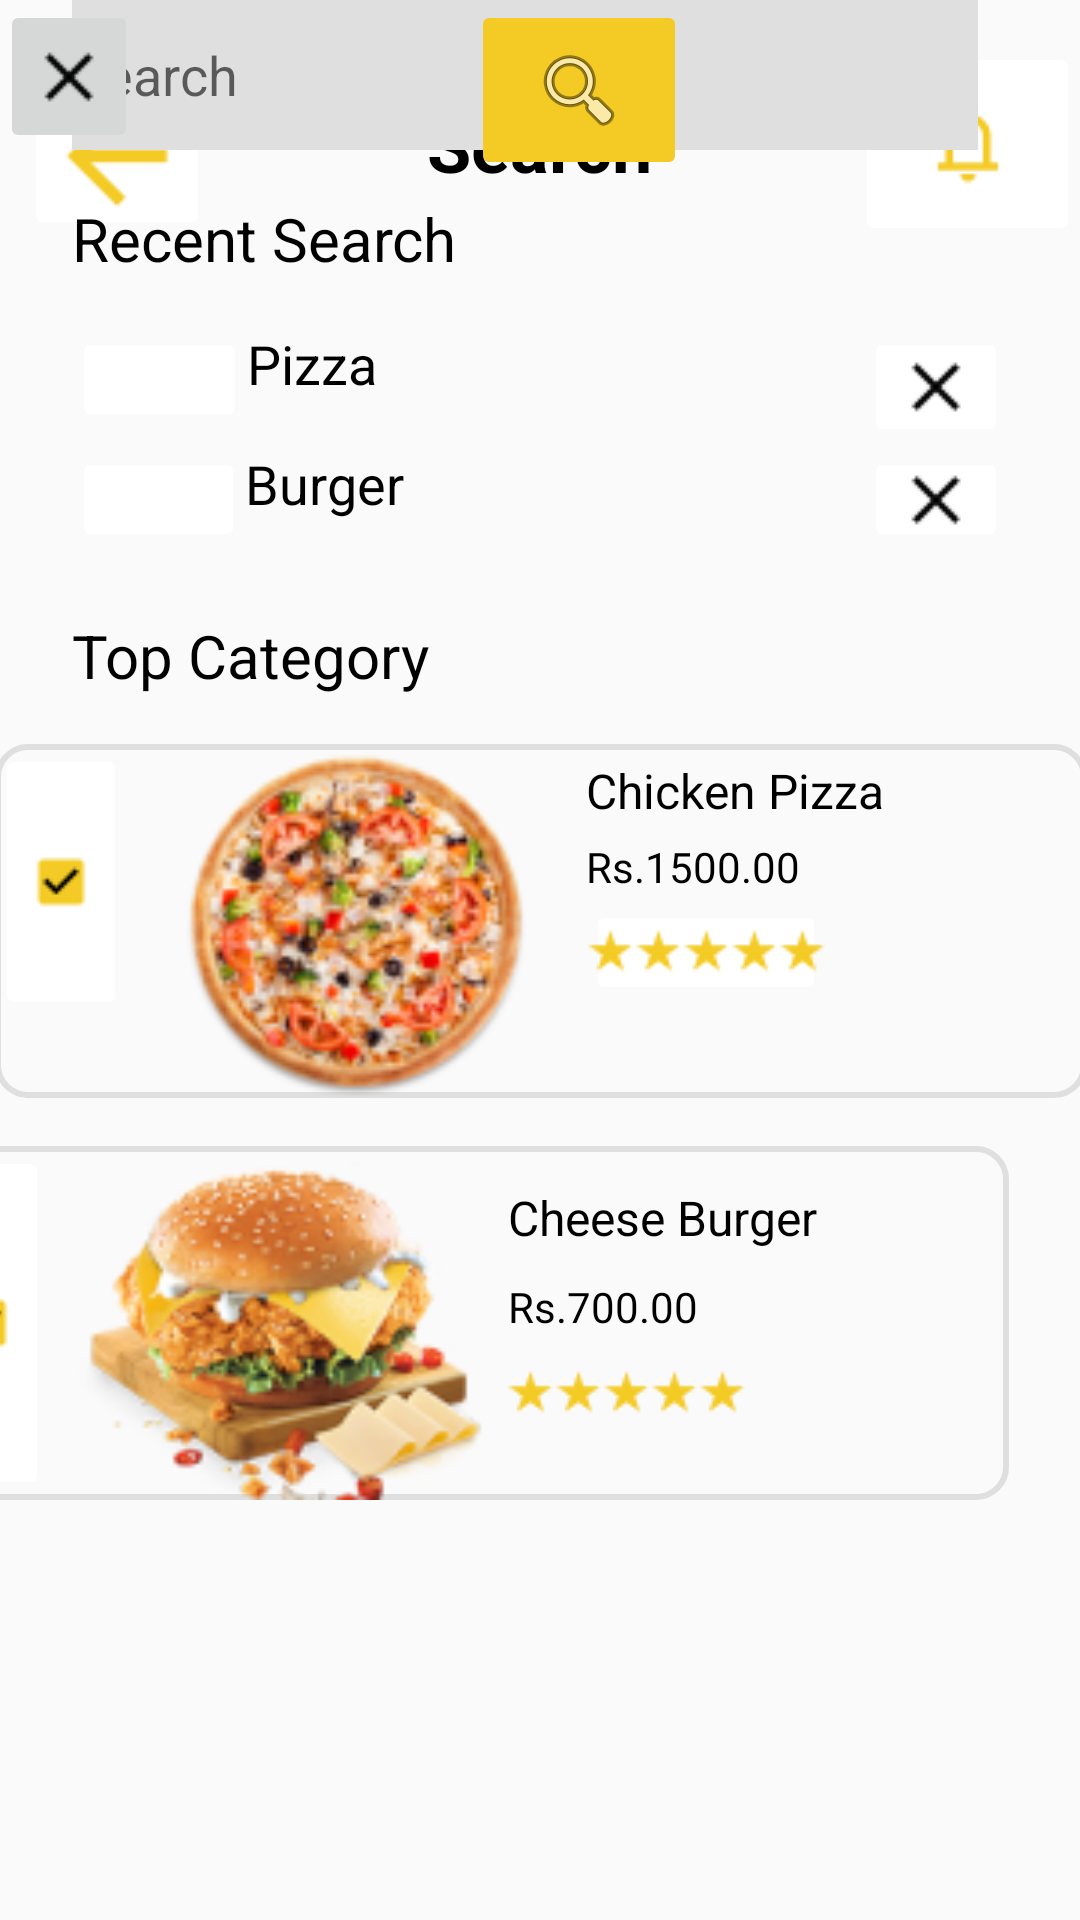

Point at icon controls on the screen. Image size 1080px x 1920px, points as [x,y].
cross: [69,76], [936,387], [936,500]
starts: [706,951], [626,1392]
